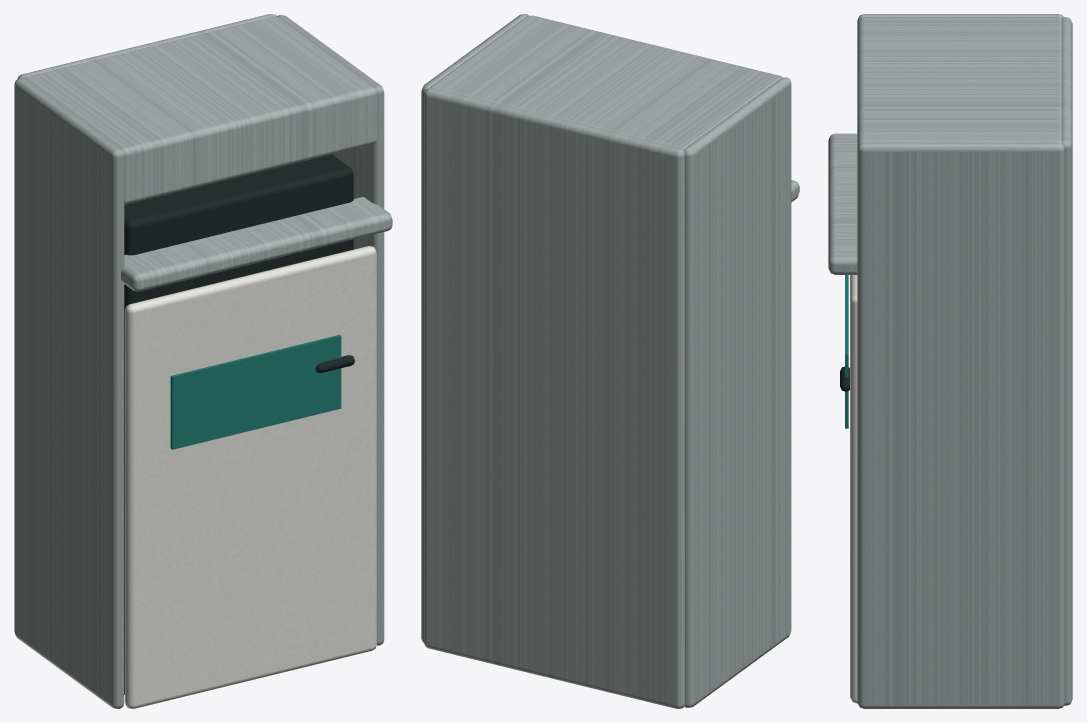
Rendered from detail-bin-slim-1.glb.
3 views of the same model, side by side, from view 1: azimuth 30°, elevation 25°; view 2: azimuth 150°, elevation 25°; view 3: azimuth 270°, elevation 25° (orthographic).
Visible parts, largest first — view 1: door_panel, side_shell (×2), hood, bin_inner_bag, label_recycle, opening_lip, back_shell; view 2: back_shell, side_shell (×2), hood; view 3: side_shell (×2), hood, back_shell, opening_lip, door_panel, label_recycle.
Boxes of the visible parts, x1=… form: door_panel: x1=125, y1=246, x2=376, y2=708; side_shell (×2): x1=14, y1=15, x2=384, y2=708; hood: x1=23, y1=16, x2=377, y2=204; bin_inner_bag: x1=124, y1=154, x2=353, y2=694; label_recycle: x1=170, y1=334, x2=341, y2=449; opening_lip: x1=121, y1=197, x2=392, y2=291; back_shell: x1=17, y1=14, x2=276, y2=79; back_shell: x1=424, y1=88, x2=684, y2=708; side_shell (×2): x1=421, y1=14, x2=791, y2=707; hood: x1=430, y1=15, x2=782, y2=150; side_shell (×2): x1=857, y1=14, x2=1065, y2=708; hood: x1=857, y1=17, x2=1061, y2=147; back_shell: x1=1061, y1=17, x2=1072, y2=705; opening_lip: x1=828, y1=133, x2=857, y2=274; door_panel: x1=850, y1=275, x2=857, y2=703; label_recycle: x1=845, y1=275, x2=848, y2=428.
Bounding box in the file's own units: 0.55 × 1.08 × 0.4225.
4 materials, 4 textured.
